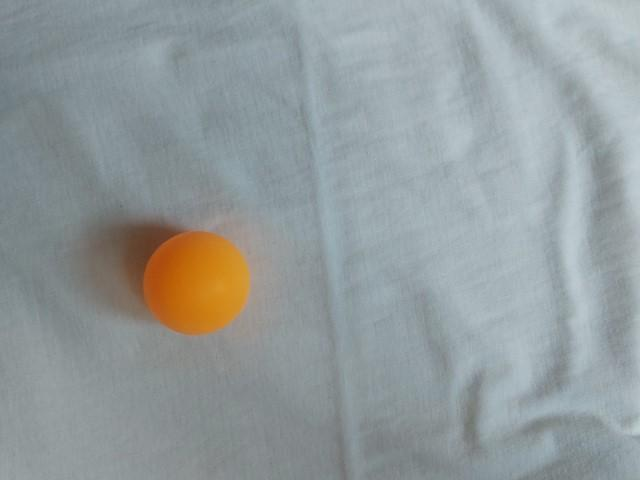oball: (383, 139, 508, 257)
